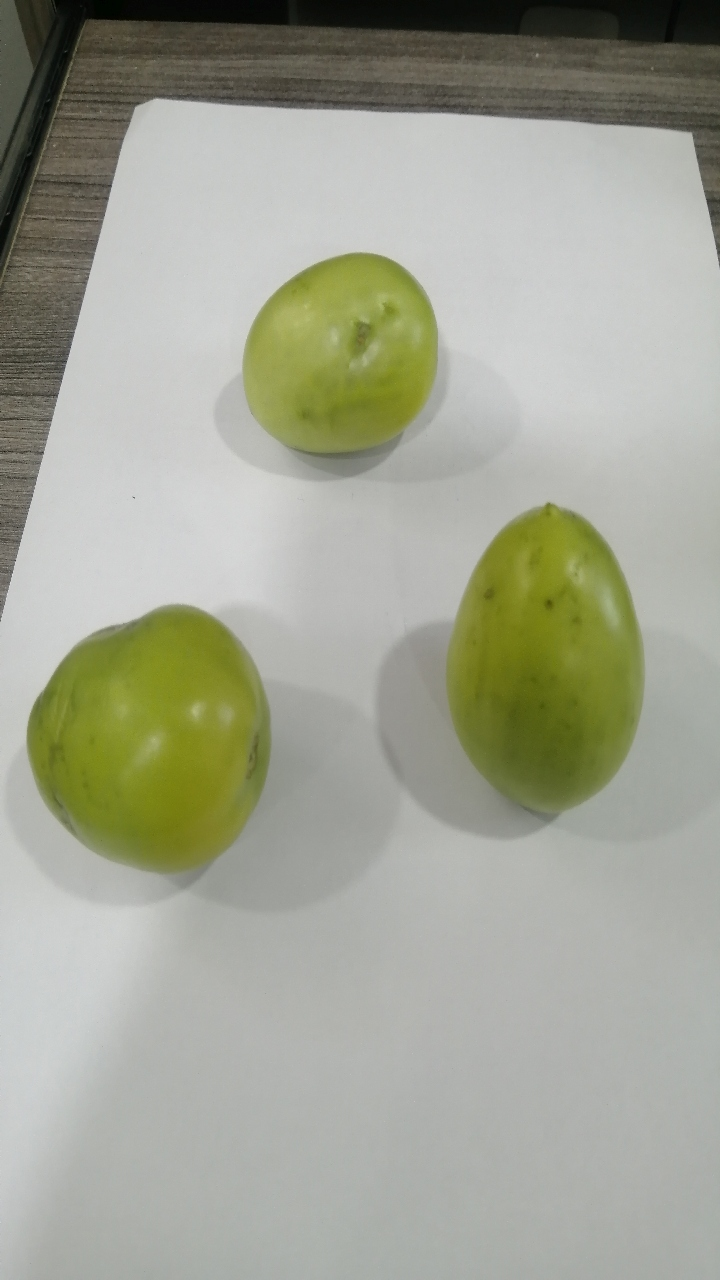tomateVerde: (423, 469, 666, 855), (9, 591, 301, 889), (208, 229, 468, 477)
